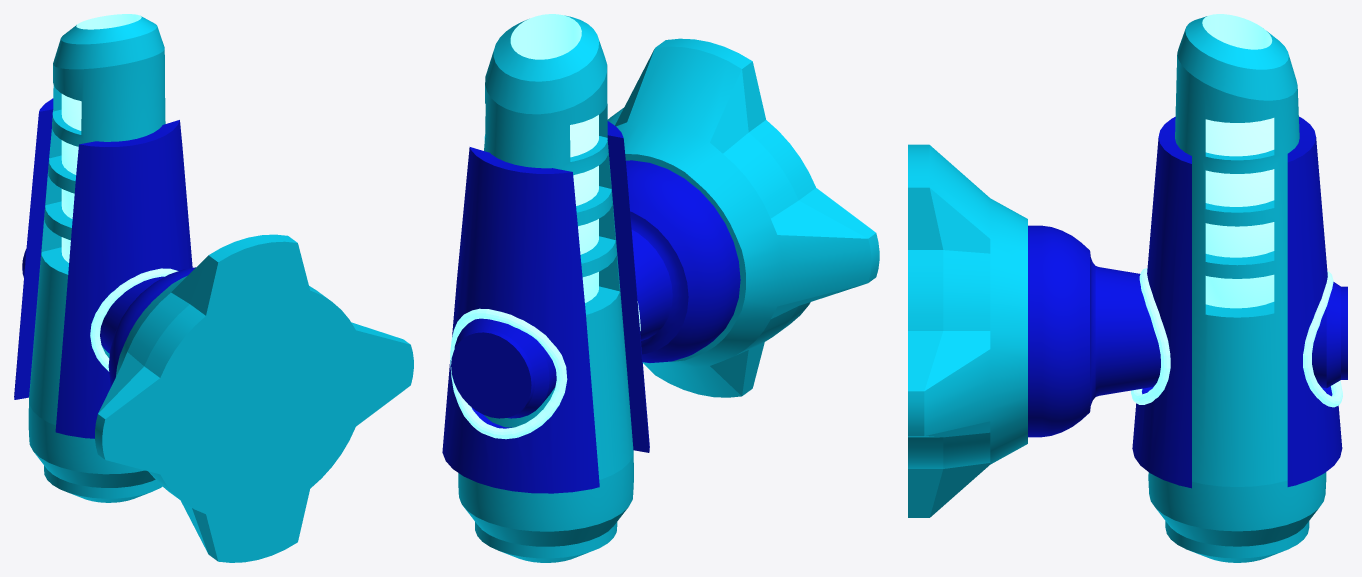
Rendered from CryoCanon1.fbx.
The picture shows the model from 3 angles, left to right: view 1: azimuth 30°, elevation 25°; view 2: azimuth 150°, elevation 25°; view 3: azimuth 270°, elevation 25°; orthographic projection. The views are drawn at different scales.
Visible parts, largest first — view 1: JA, Cylinder.002, Cylinder, Cylinder.001, mid, Cylinder.002_Curve.001; view 2: JA, Cylinder.002, Cylinder, Cylinder.001, Cylinder.002_Curve, mid; view 3: Cylinder, JA, Cylinder.002, Cylinder.001, mid, Cylinder.002_Curve.001, Cylinder.002_Curve.
Boxes of the visible parts, x1,y1,x2,y2 form: JA: [95, 234, 413, 562]; Cylinder.002: [14, 98, 192, 438]; Cylinder: [28, 14, 165, 502]; Cylinder.001: [22, 248, 195, 386]; mid: [61, 94, 81, 262]; Cylinder.002_Curve.001: [90, 268, 178, 371]; JA: [607, 38, 879, 397]; Cylinder.002: [442, 121, 649, 493]; Cylinder: [458, 14, 633, 562]; Cylinder.001: [451, 160, 740, 418]; Cylinder.002_Curve: [450, 308, 567, 439]; mid: [570, 115, 598, 302]; Cylinder: [1148, 14, 1326, 562]; JA: [908, 144, 1027, 517]; Cylinder.002: [1132, 116, 1342, 488]; Cylinder.001: [1028, 225, 1347, 437]; mid: [1205, 118, 1274, 308]; Cylinder.002_Curve.001: [1131, 268, 1170, 404]; Cylinder.002_Curve: [1303, 271, 1342, 407].
Bounding box in the file's own units: 1669 × 2423 × 1848.
